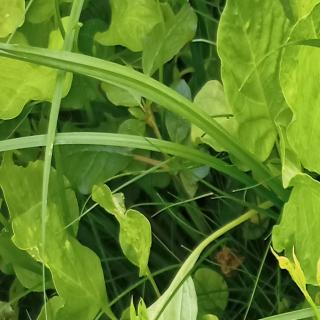karat_putih: (26, 225, 48, 272)
virus_keriting: (92, 177, 144, 249)
